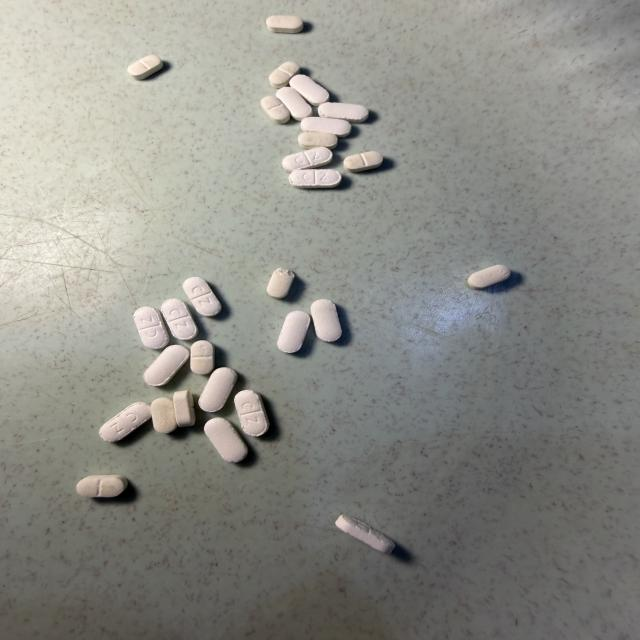pill: (336, 515, 395, 553), (100, 402, 151, 441), (205, 418, 248, 462), (144, 345, 189, 386), (199, 368, 237, 412), (235, 390, 268, 436), (161, 299, 198, 340), (183, 277, 221, 316), (134, 307, 169, 349), (277, 311, 310, 353), (311, 299, 342, 342), (290, 74, 329, 106), (283, 147, 332, 172), (276, 87, 312, 120), (77, 475, 128, 497), (468, 265, 510, 289), (301, 117, 351, 137), (319, 103, 368, 123), (290, 169, 341, 188), (151, 398, 177, 433), (128, 55, 163, 79), (267, 268, 295, 298), (261, 96, 290, 124), (269, 62, 300, 88), (173, 390, 195, 426), (344, 152, 383, 172), (191, 341, 214, 374), (298, 132, 337, 149), (266, 16, 303, 33)
